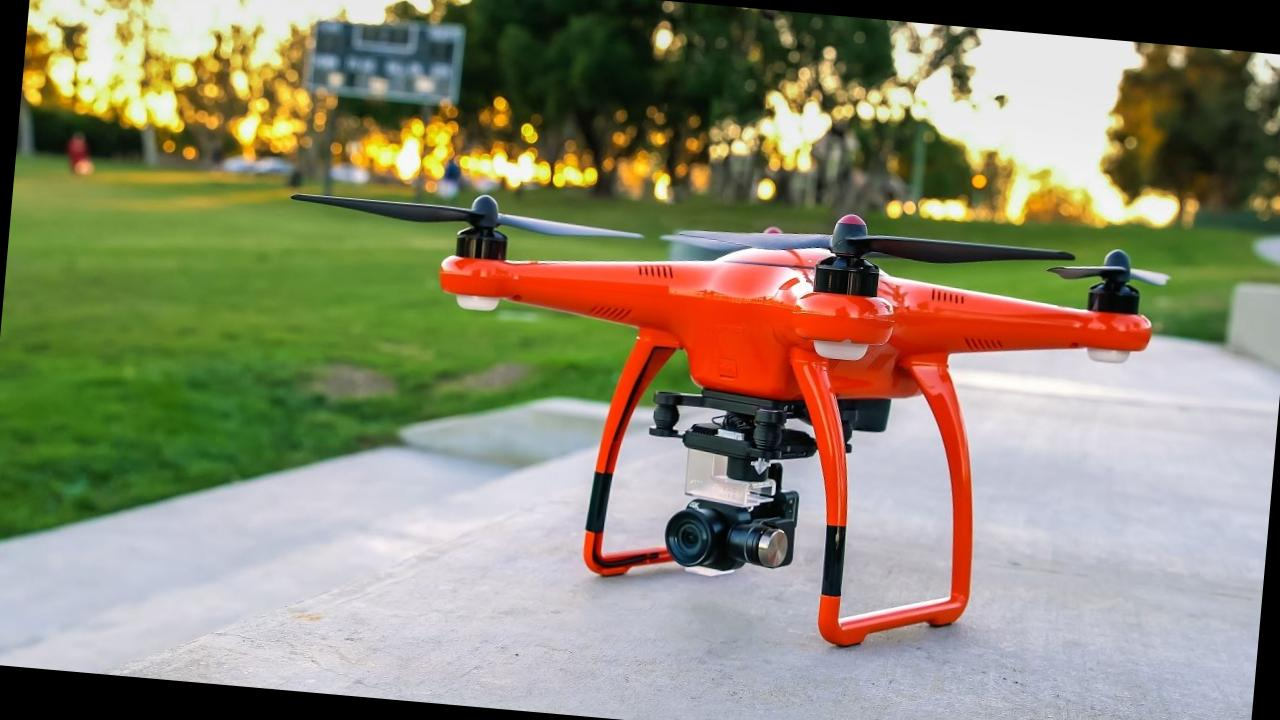drone: (249, 148, 1229, 430)
